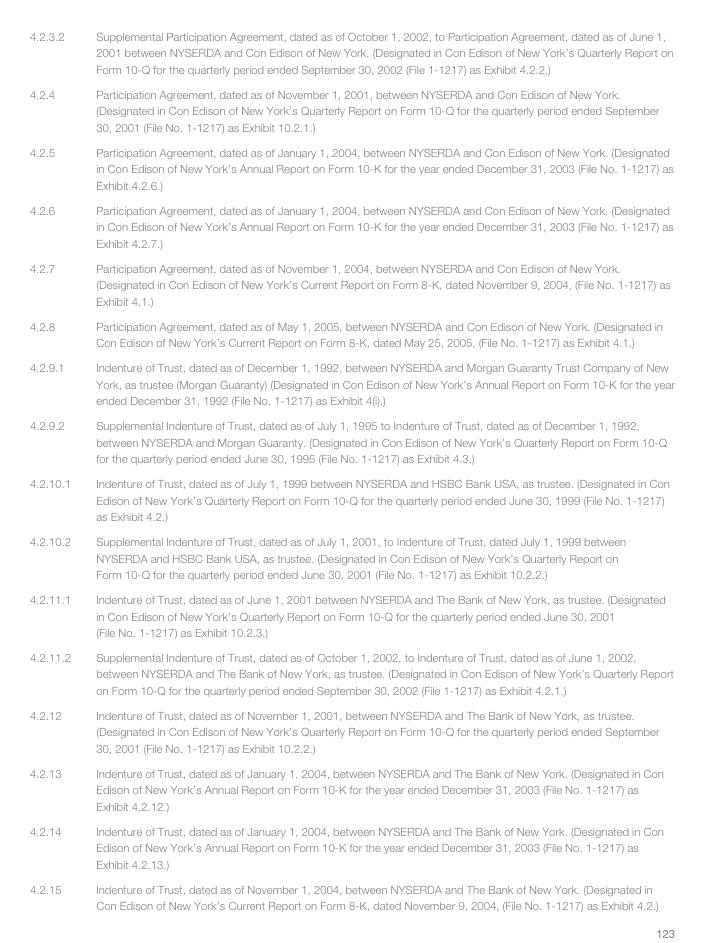table: (28, 29, 673, 911)
table column: (82, 29, 673, 911), (28, 29, 82, 911)
table row: (28, 81, 673, 139), (28, 139, 673, 197), (28, 197, 673, 255), (28, 354, 673, 412), (28, 412, 673, 470), (28, 470, 673, 528), (28, 528, 673, 586), (28, 586, 673, 644), (28, 644, 673, 702), (28, 702, 673, 760), (28, 760, 673, 818), (28, 255, 673, 312), (28, 818, 673, 875), (28, 29, 673, 81), (28, 312, 673, 354), (28, 875, 673, 911)
